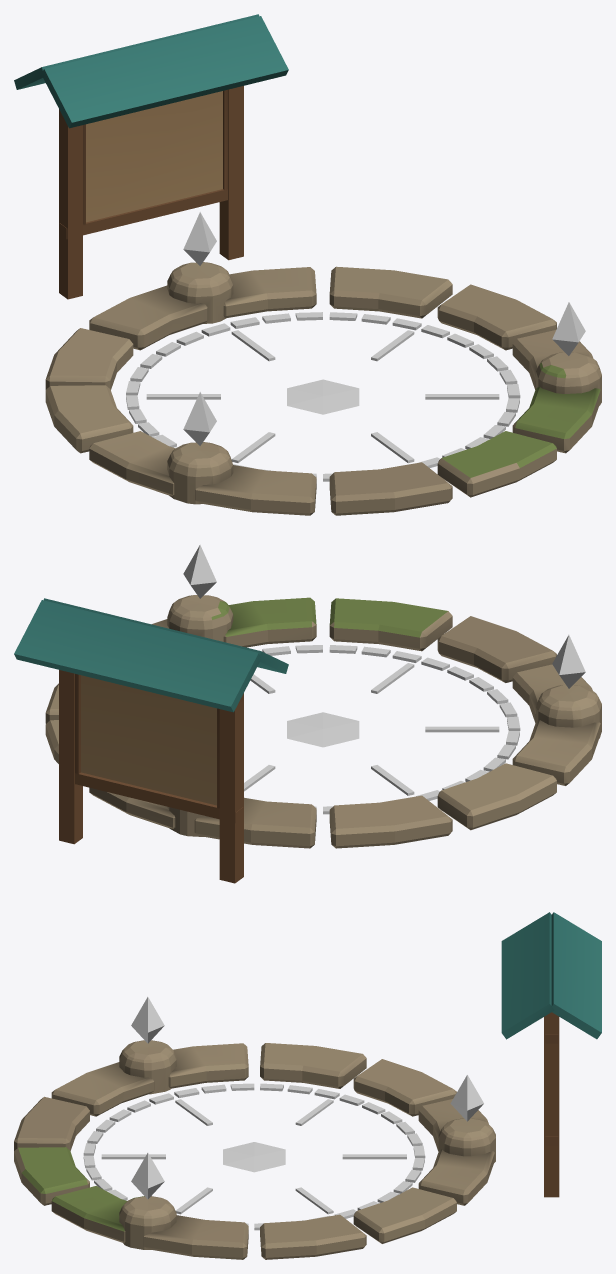
File: RuneCircle.glb
The picture shows the model from 3 angles, top to bottom: view 1: azimuth 30°, elevation 25°; view 2: azimuth 150°, elevation 25°; view 3: azimuth 270°, elevation 25°; orthographic projection. The views are drawn at different scales.
Parts seen in each view (by area): view 1: Ring.001, Roof, Board, Frame, Glow, Slot1, Slot2, Slot3; view 2: Ring.001, Roof, Board, Frame, Glow, Slot2, Slot3; view 3: Ring.001, Roof, Glow, Frame, Slot2, Slot1, Slot3.
Boxes of the visible parts, box(x1,y1,x2,y2) form: Ring.001: box(45, 262, 601, 515); Roof: box(14, 14, 288, 128); Board: box(86, 91, 222, 222); Frame: box(59, 86, 243, 299); Glow: box(126, 312, 520, 481); Slot1: box(183, 212, 216, 265); Slot2: box(183, 392, 216, 445); Slot3: box(552, 302, 585, 355); Ring.001: box(45, 595, 601, 848); Roof: box(14, 598, 288, 712); Board: box(81, 675, 216, 805); Frame: box(59, 670, 243, 883); Glow: box(244, 645, 520, 814); Slot2: box(552, 635, 585, 688); Slot3: box(183, 544, 216, 598); Ring.001: box(14, 1040, 495, 1259); Roof: box(501, 912, 601, 1039); Glow: box(83, 1083, 425, 1230); Frame: box(544, 1012, 559, 1197); Slot2: box(131, 997, 164, 1043); Slot1: box(450, 1075, 483, 1121); Slot3: box(131, 1153, 164, 1199).
Size of the model in its own units: 11.97 by 5.55 by 14.63.
